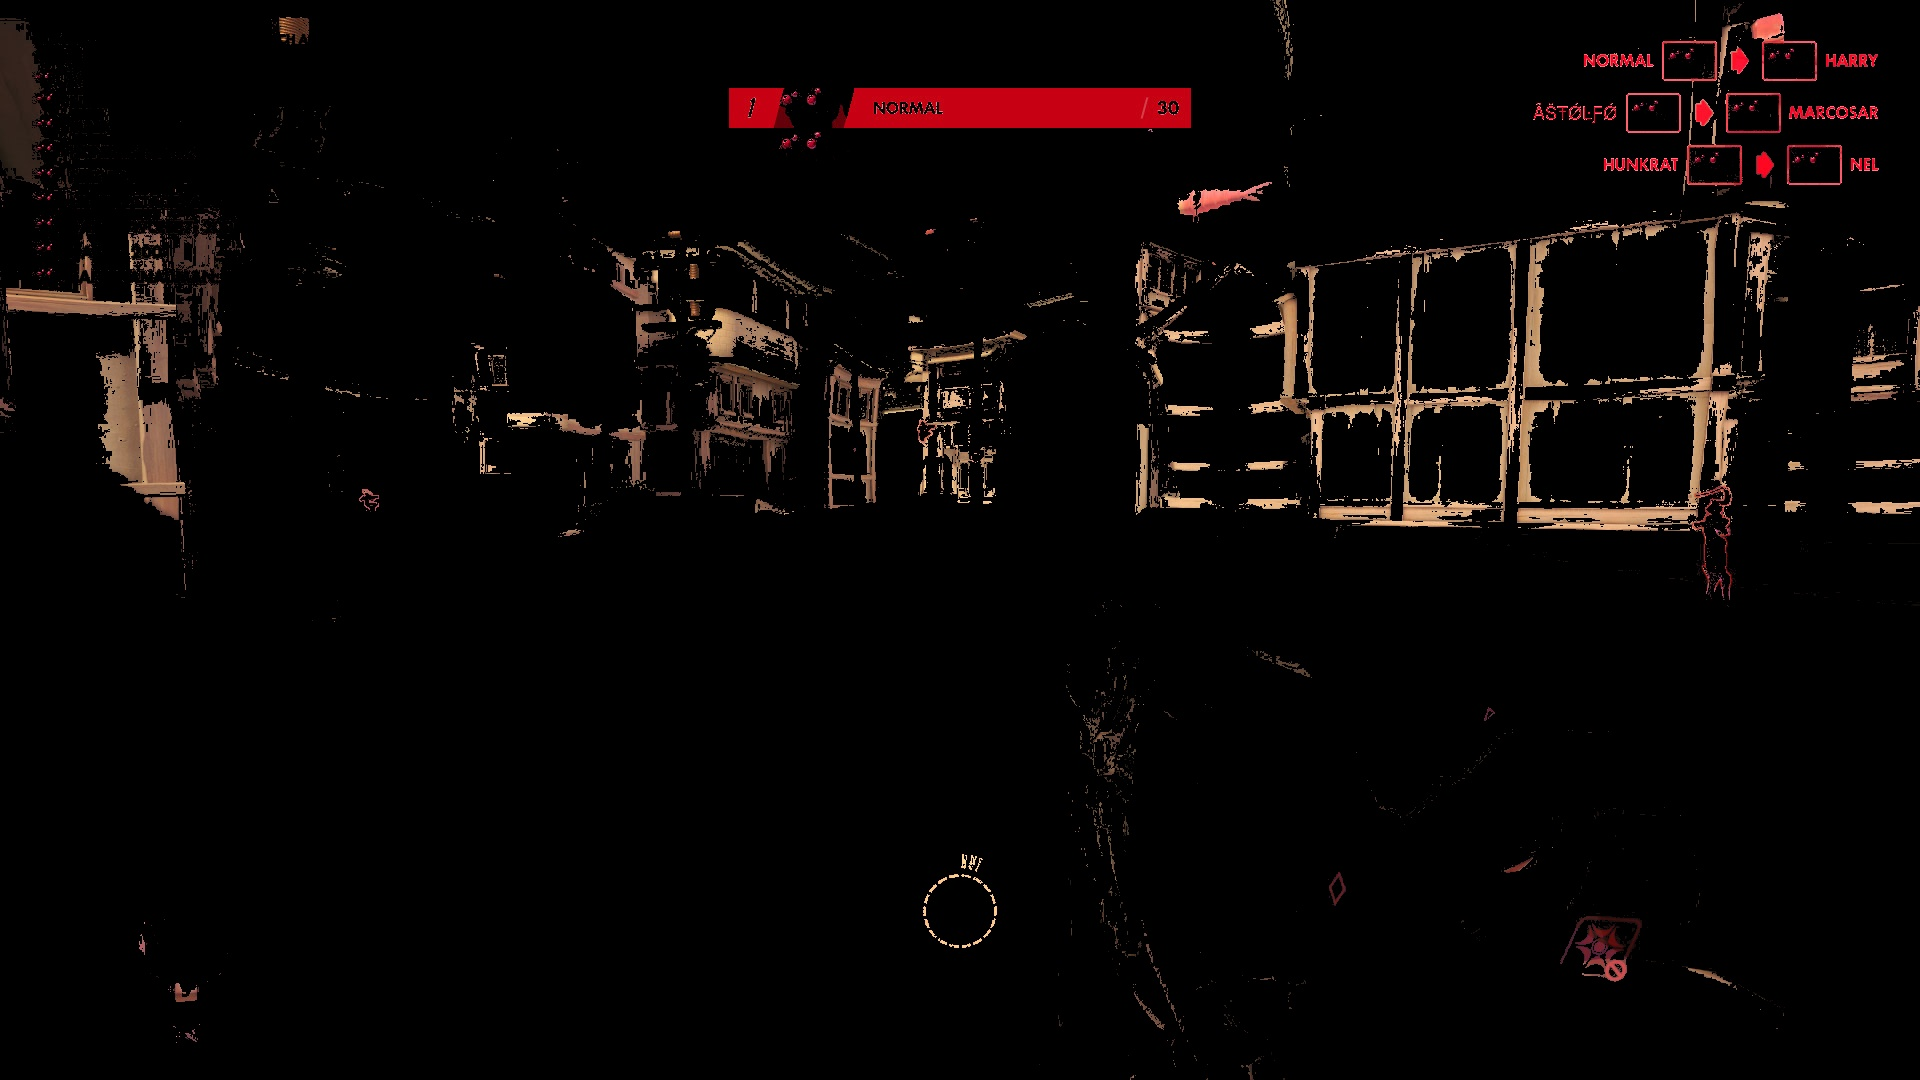widowmaker: (1687, 479, 1746, 616), (357, 487, 384, 520), (913, 415, 939, 444)
